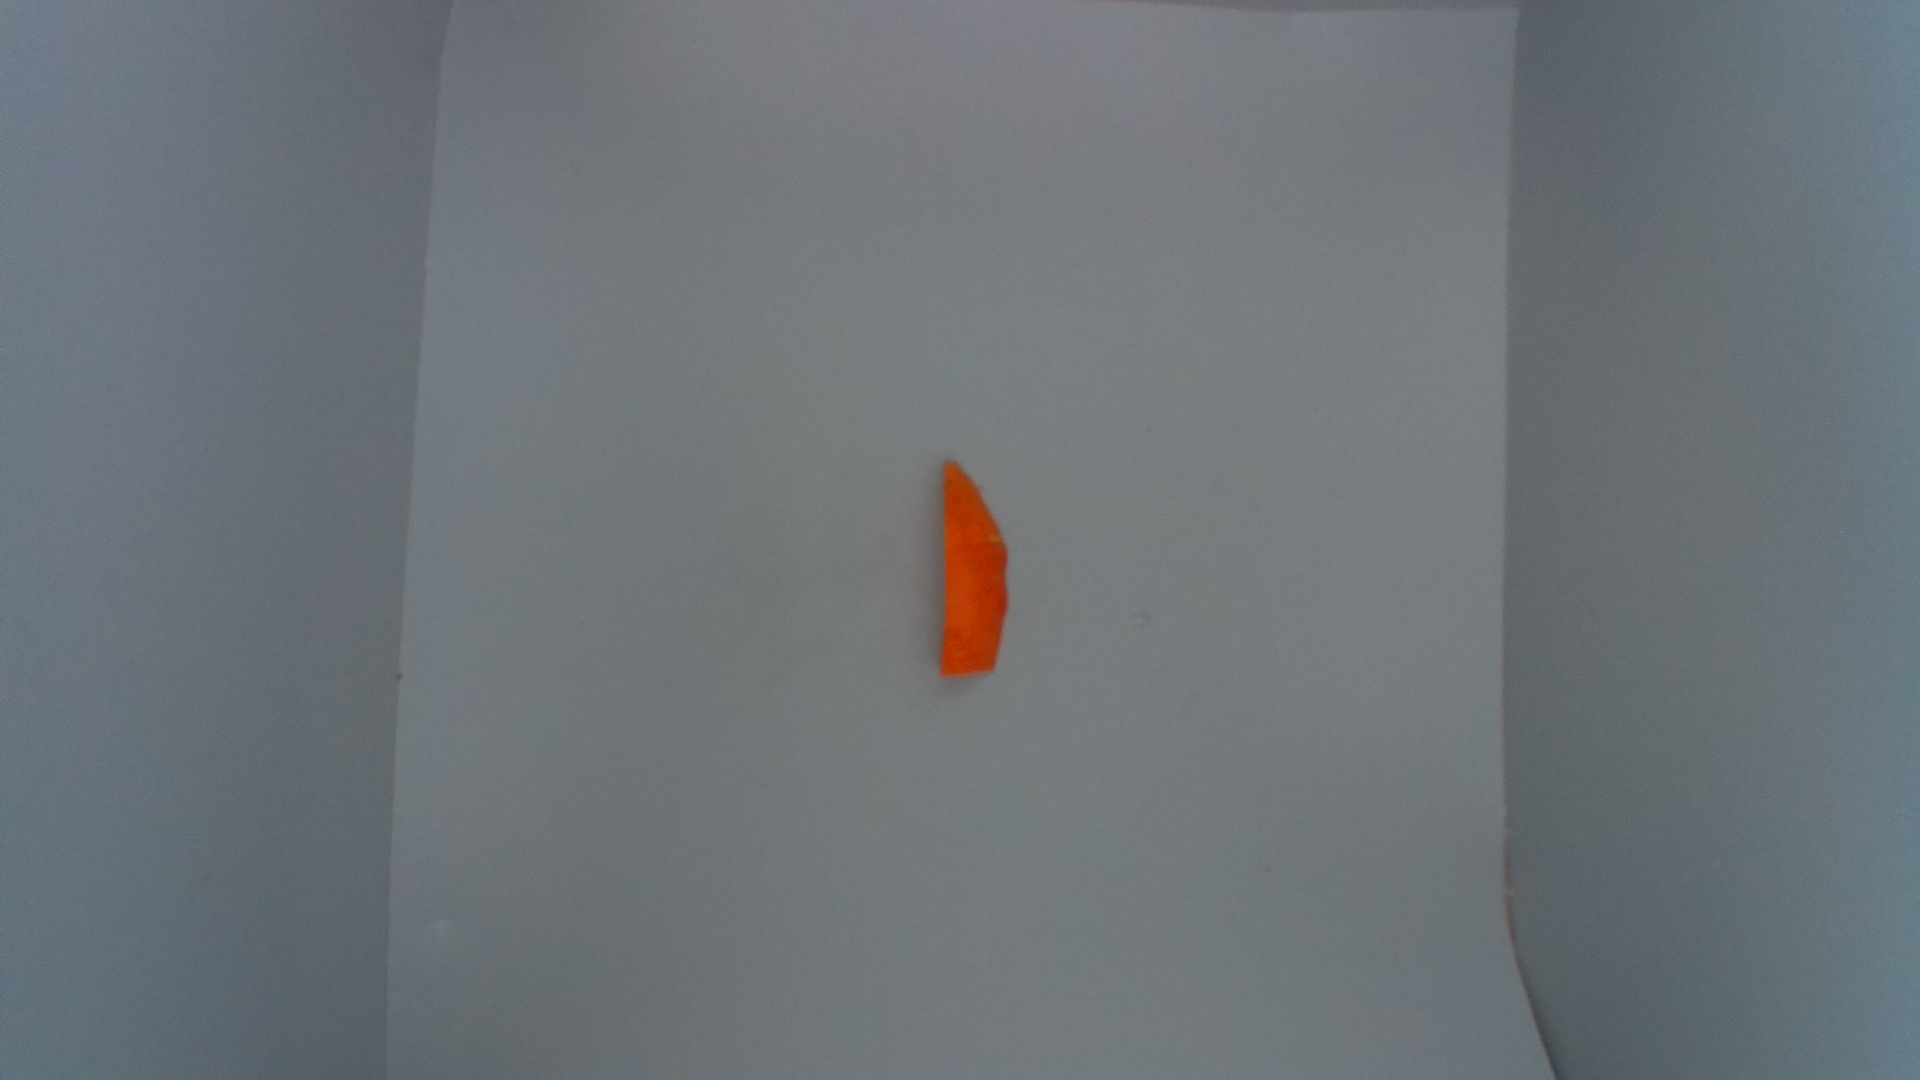carrot: (938, 458, 1014, 680)
